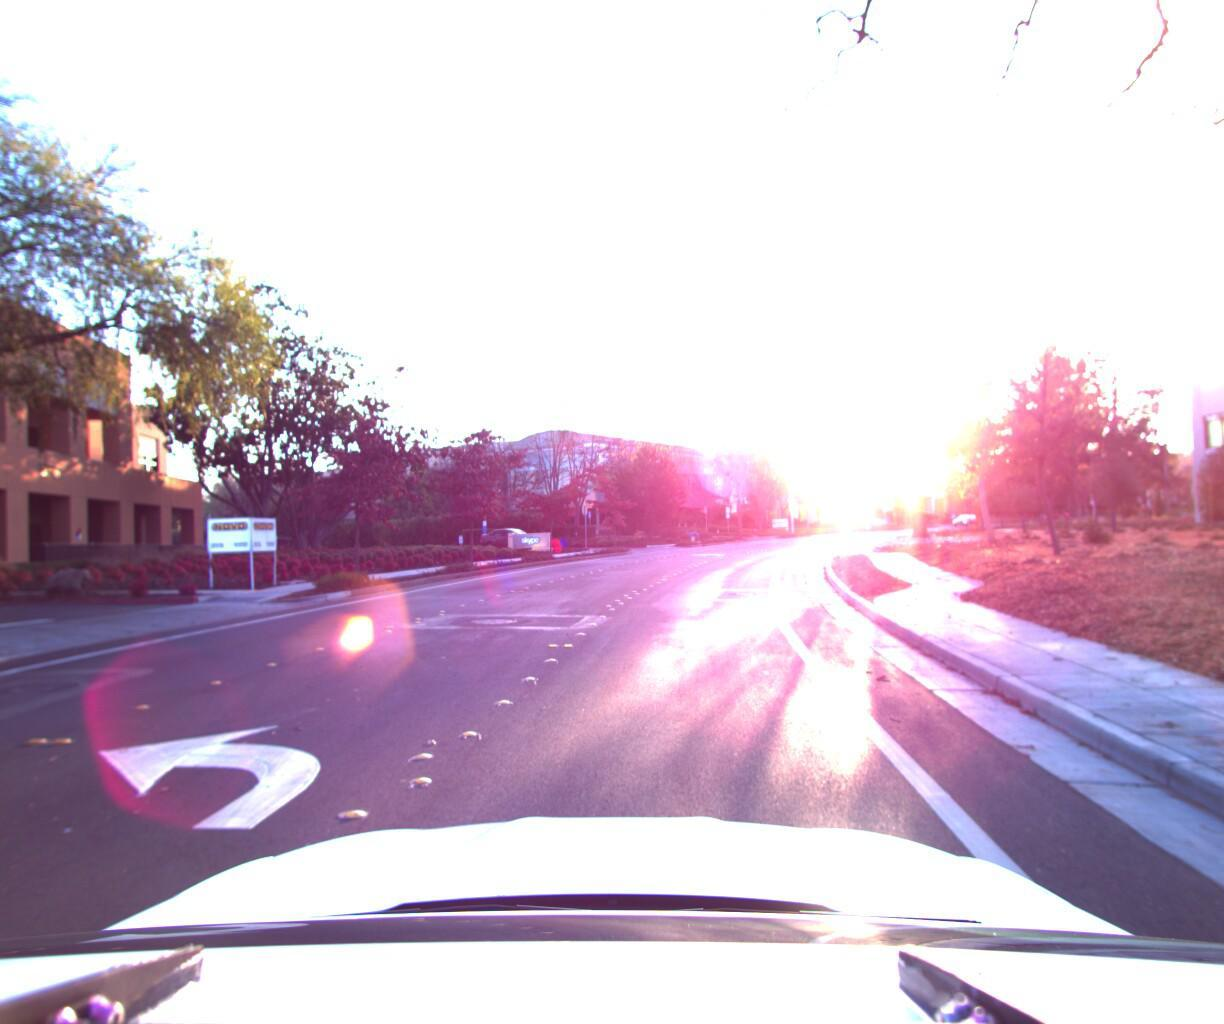car: (473, 523, 543, 550)
